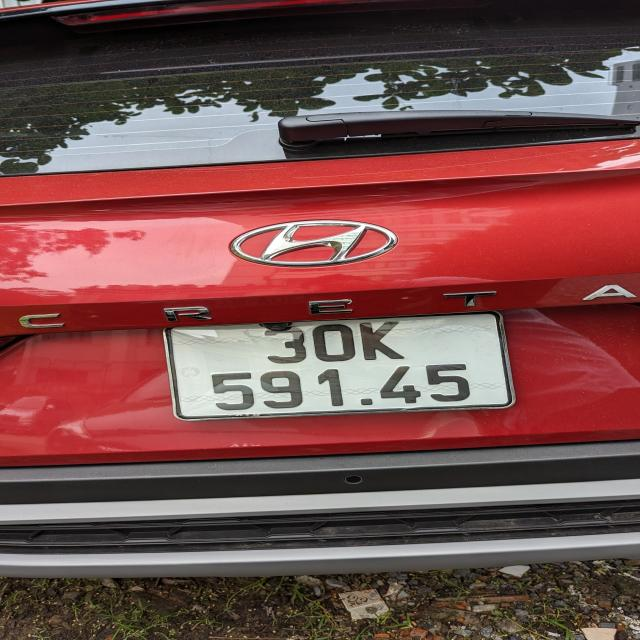License: (163, 310, 516, 421)
